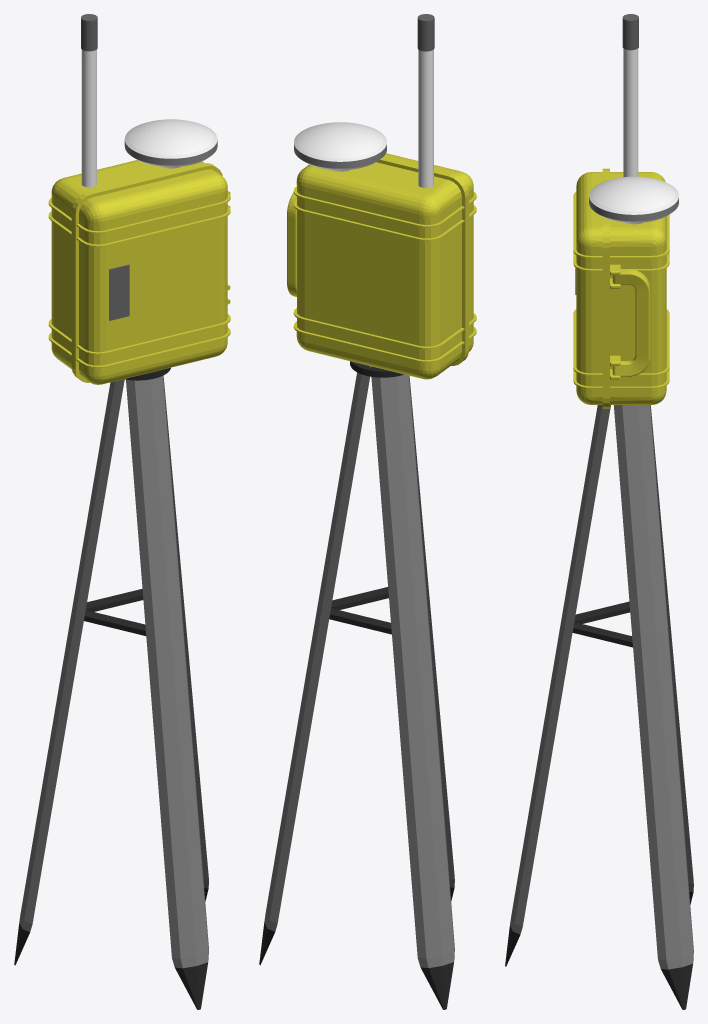
Rendered from base_station_with_tripod.dae.
3 renders of one model, left to right at view 1: azimuth 30°, elevation 25°; view 2: azimuth 150°, elevation 25°; view 3: azimuth 270°, elevation 25°, orthographic. The views are drawn at different scales.
Parts seen in each view (by area): view 1: Base Station, Tripod; view 2: Base Station, Tripod; view 3: Tripod, Base Station.
Boxes of the visible parts, x1=… form: Base Station: x1=48, y1=14, x2=230, y2=384; Tripod: x1=14, y1=375, x2=208, y2=1009; Base Station: x1=287, y1=14, x2=476, y2=379; Tripod: x1=259, y1=372, x2=454, y2=1009; Tripod: x1=505, y1=405, x2=693, y2=1009; Base Station: x1=573, y1=14, x2=678, y2=408.
Size of the model in its own units: 0.368 by 0.3332 by 1.8.
